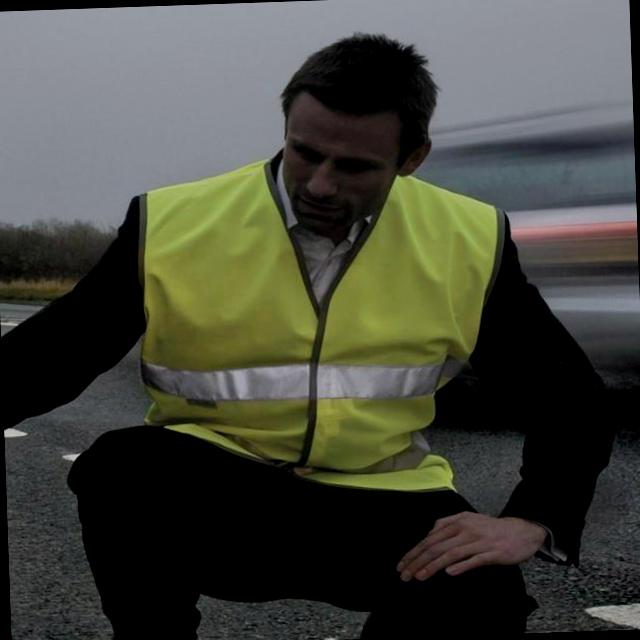vest: (118, 158, 516, 514)
